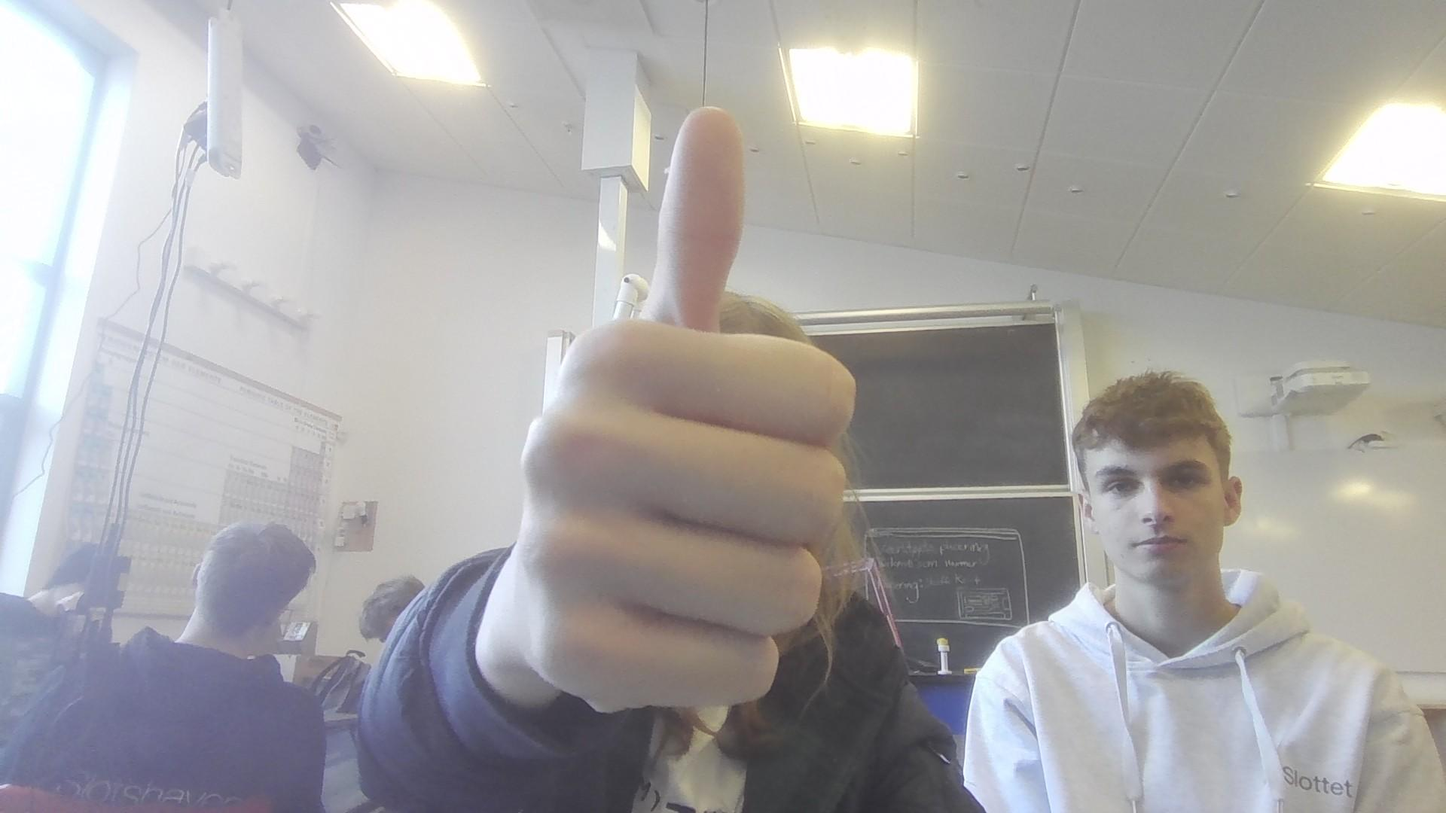thumbs up: (474, 98, 855, 723)
